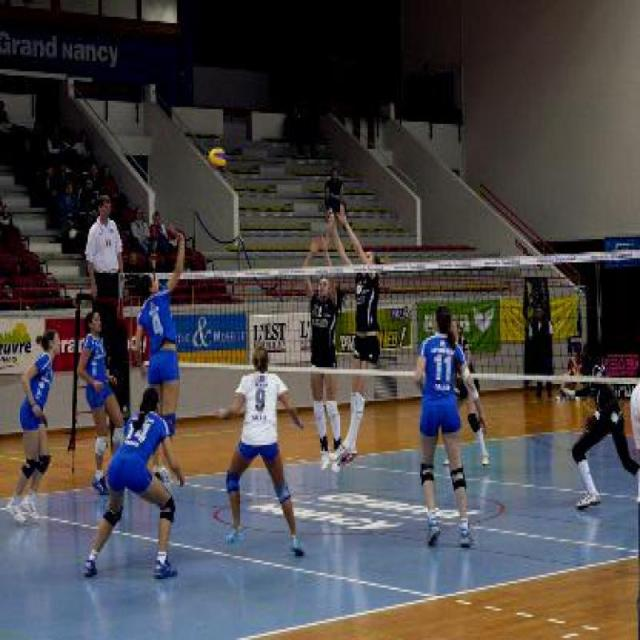volleyball: (206, 146, 224, 168)
